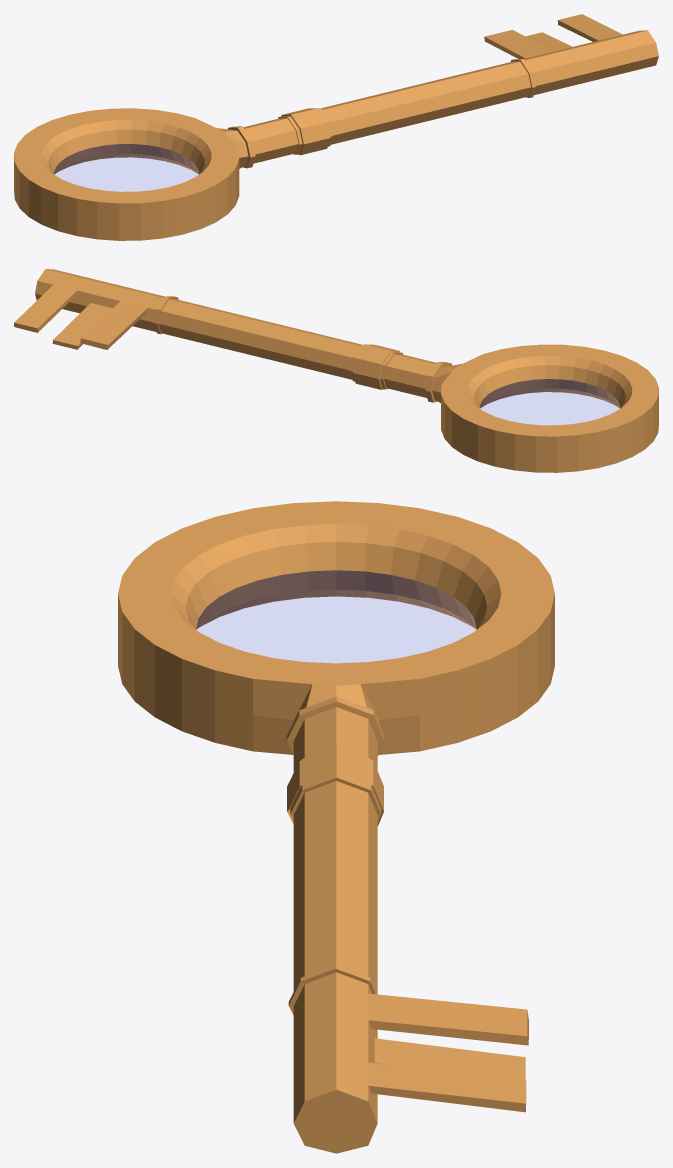
The model's file is Chave2.fbx.
3 views of the same model, one above another, from view 1: azimuth 30°, elevation 25°; view 2: azimuth 150°, elevation 25°; view 3: azimuth 270°, elevation 25° (orthographic). The views are drawn at different scales.
Visible parts, largest first — view 1: Chave 2; view 2: Chave 2; view 3: Chave 2.
Part boxes in pixels (x1,y1,x2,y2): Chave 2: (14, 14, 658, 240); Chave 2: (14, 269, 658, 472); Chave 2: (118, 501, 554, 1153).
Bounding box in the file's own units: 7.07 × 0.421 × 2.23.
